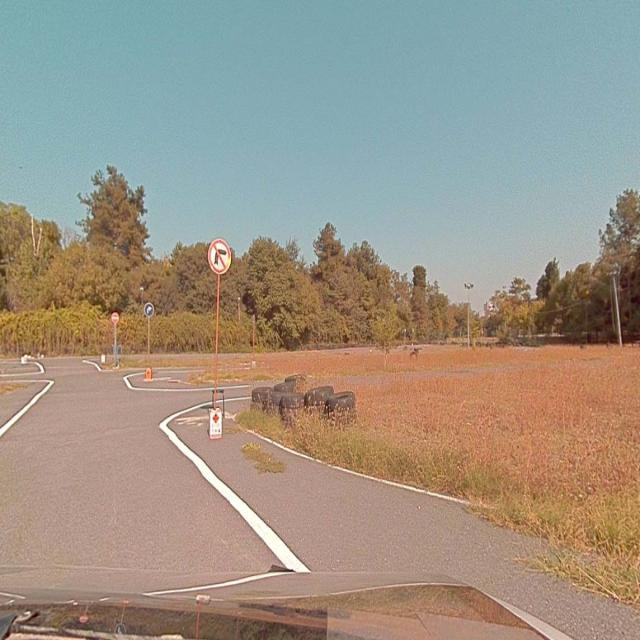girisyok: (111, 312, 119, 324)
sag: (144, 303, 154, 316)
sagadonulmez: (208, 239, 231, 274)
